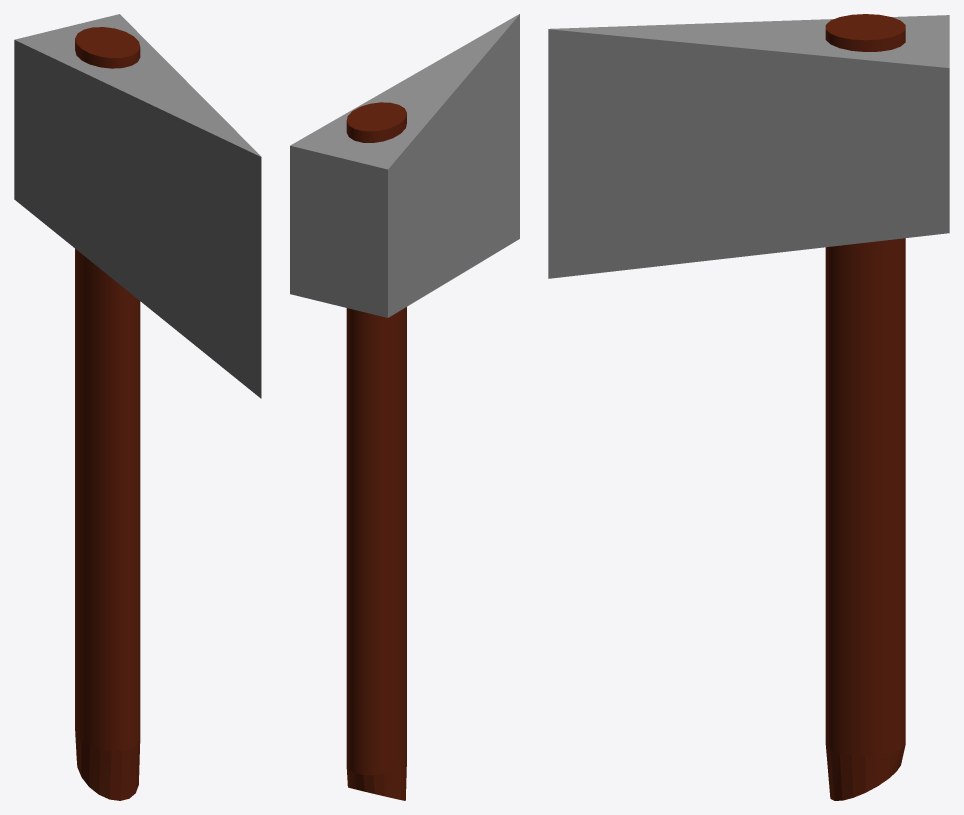
Rendered from axe.FBX.
The picture shows the model from 3 angles, left to right: view 1: azimuth 30°, elevation 25°; view 2: azimuth 150°, elevation 25°; view 3: azimuth 270°, elevation 25°; orthographic projection. The views are drawn at different scales.
Visible parts, largest first — view 1: Box001; view 2: Box001; view 3: Box001.
Boxes of the visible parts, x1=… form: Box001: x1=14, y1=14, x2=261, y2=800; Box001: x1=290, y1=14, x2=519, y2=800; Box001: x1=548, y1=14, x2=949, y2=800.
Bounding box in the file's own units: 0.1653 × 0.5274 × 1.12.
